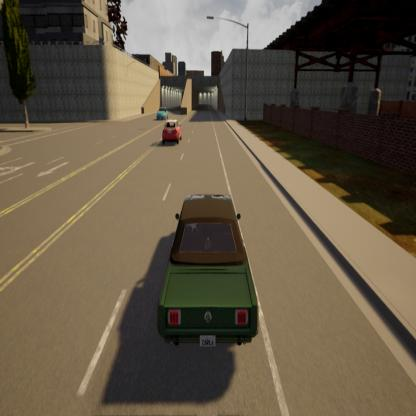Cars: (157, 197, 259, 353), (160, 120, 183, 145), (157, 105, 168, 120)
